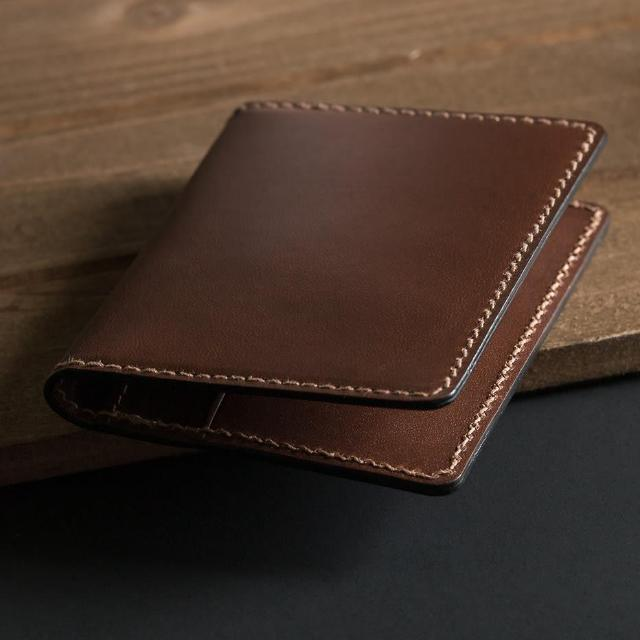wallet: (43, 95, 612, 492)
